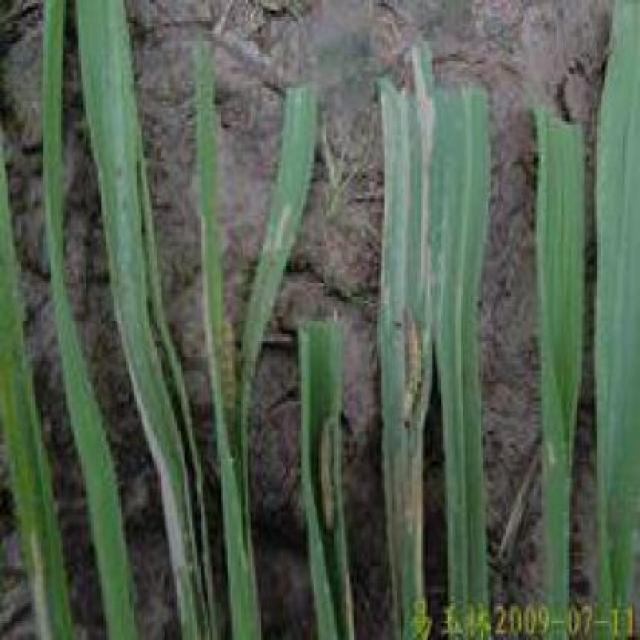leaf-folder: (203, 289, 262, 469), (295, 384, 348, 550), (388, 298, 434, 449)
